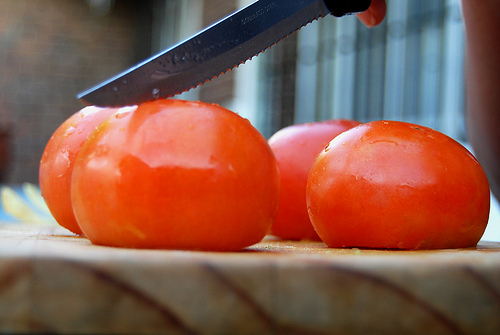tomato: (44, 98, 274, 240), (274, 116, 492, 242)
